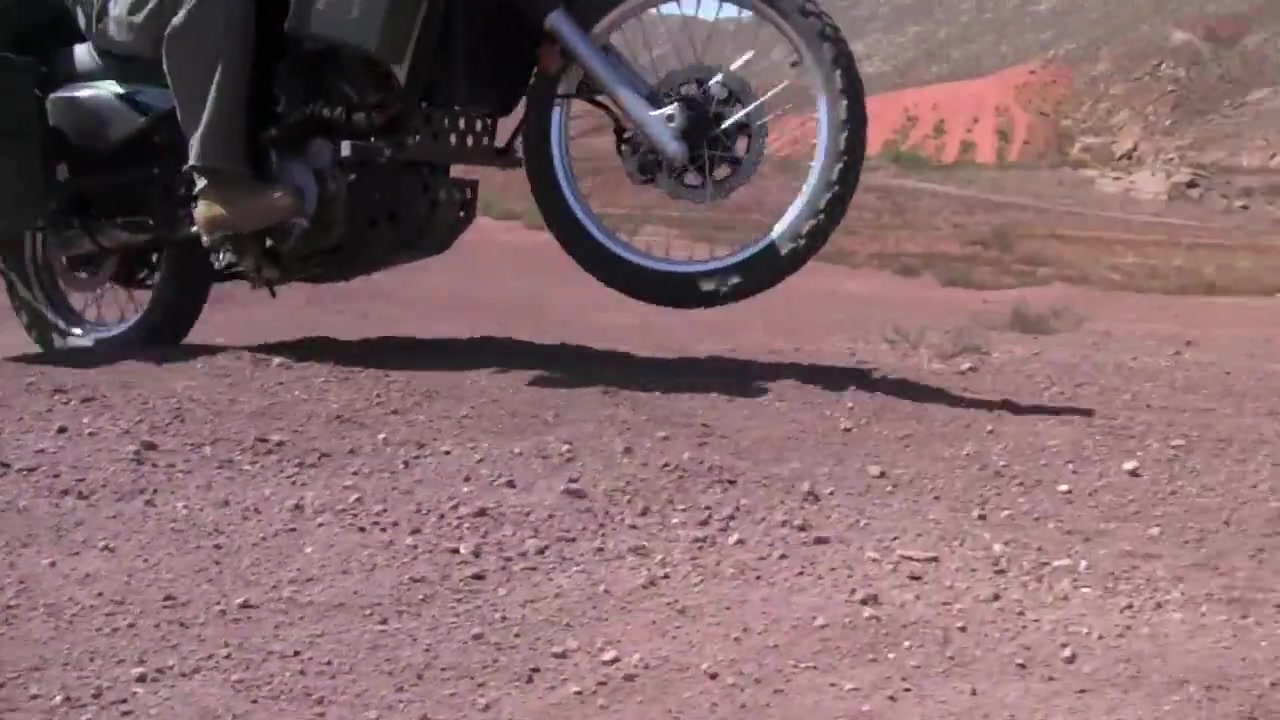motorbike: (3, 1, 873, 371)
